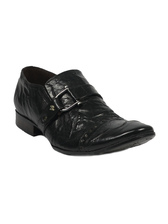shoes: (12, 61, 162, 159)
